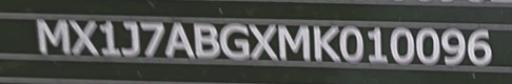letter: (278, 21, 314, 63), (33, 15, 69, 56), (69, 17, 99, 58), (338, 22, 368, 63), (140, 17, 170, 57), (220, 19, 250, 59), (247, 21, 277, 61), (166, 19, 194, 61), (312, 21, 340, 63), (465, 24, 493, 66), (388, 24, 416, 64), (414, 24, 442, 64), (440, 24, 468, 64), (192, 21, 220, 60), (117, 18, 143, 58), (366, 22, 390, 65), (98, 19, 120, 60)
